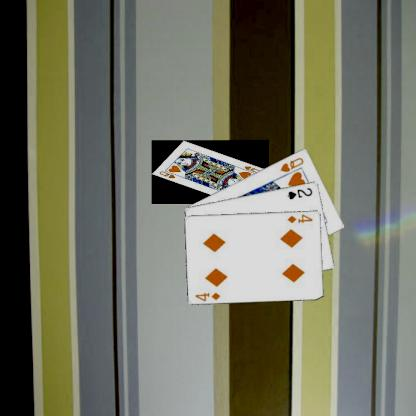2S: (284, 185, 314, 200)
4D: (285, 212, 314, 224), (193, 290, 222, 301)
QH: (278, 155, 305, 173)
